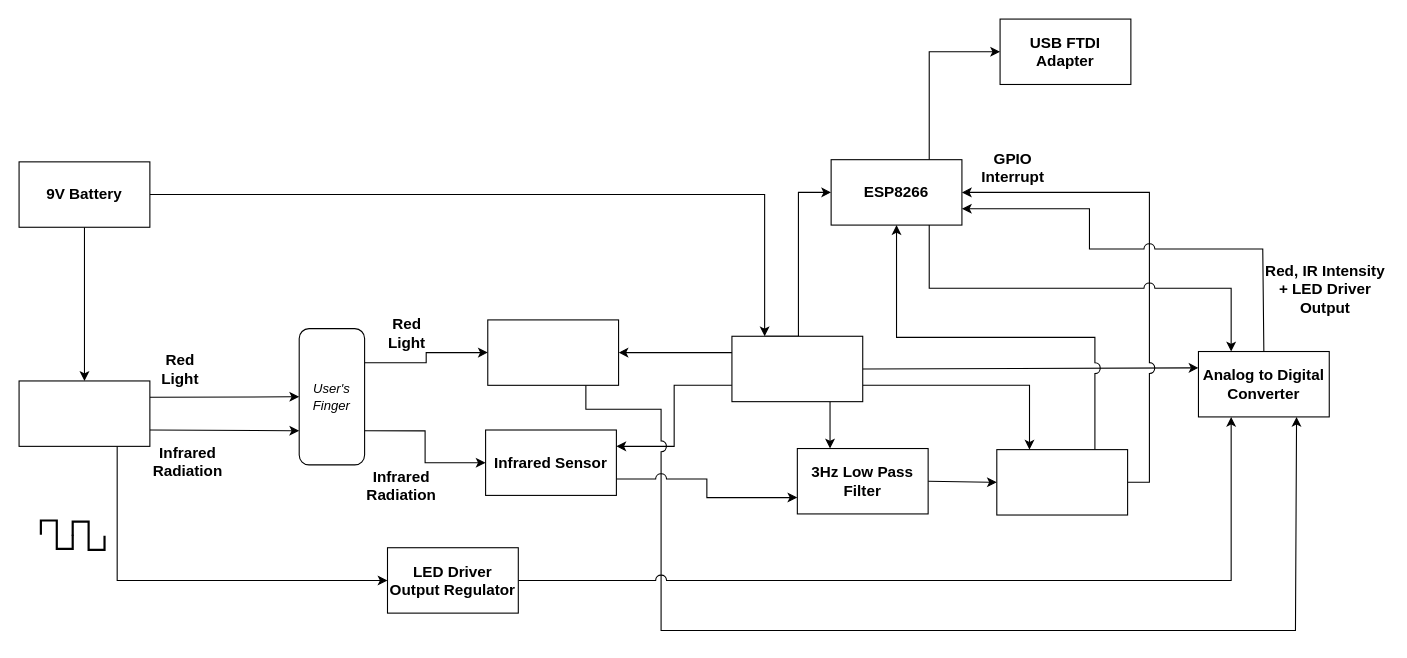
The diagram is 1407 pixels wide and 658 high, and some of its shapes have lost their labels. Each missing label, with the centre of its shape:
3.3V Regulator: pixel 797 368
LED Driver Circuit: pixel 84 413
Non-Inverting Amplifier: pixel 1062 482
Red Light Sensor: pixel 553 352
